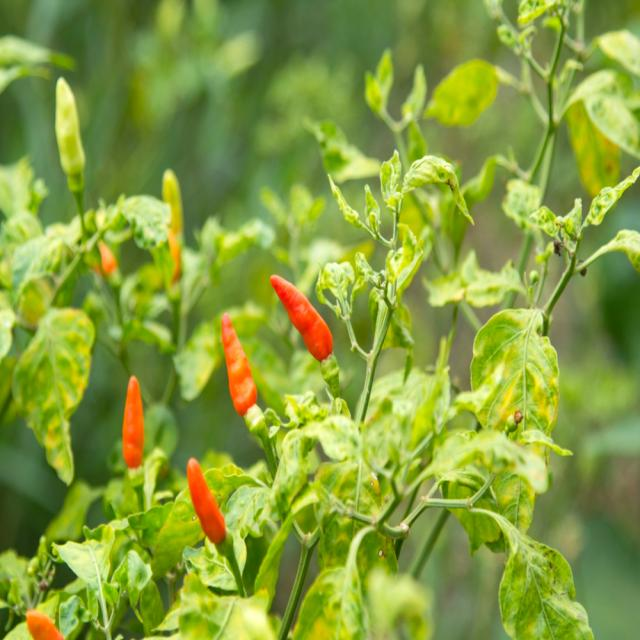Ripe: (270, 275, 332, 362), (221, 313, 256, 416), (188, 457, 226, 543), (122, 377, 144, 469), (26, 609, 63, 639)
Unripe: (55, 77, 85, 185)
